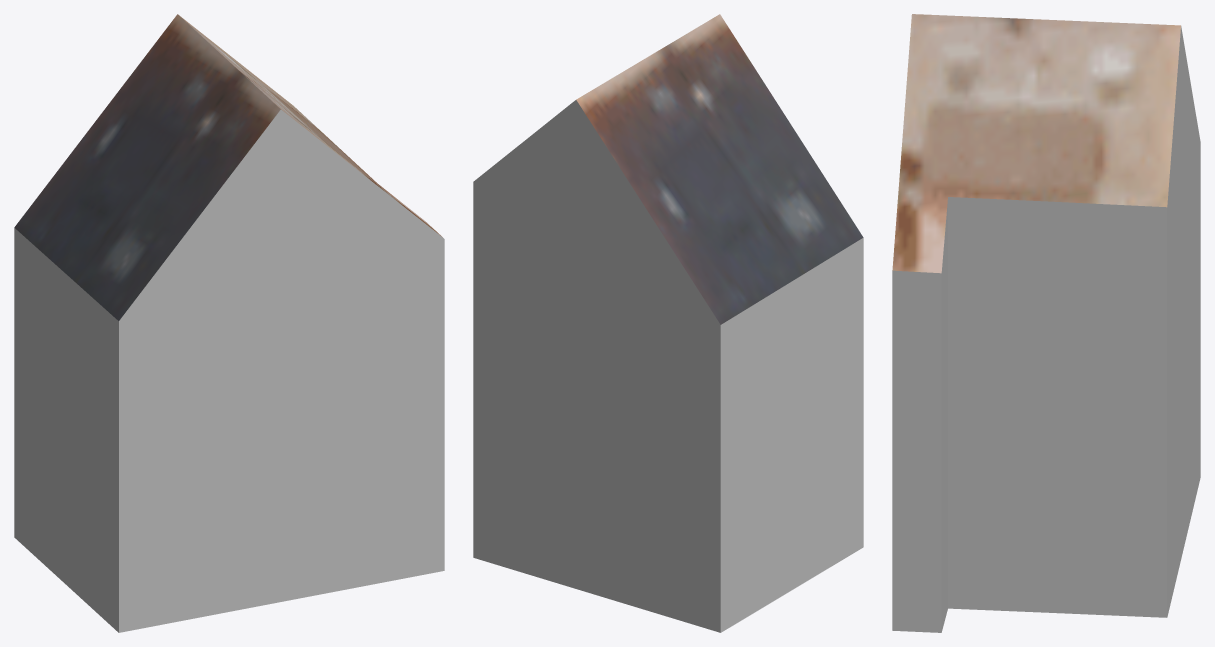
The model's file is DEBW_0010007TxgK.gltf.
The picture shows the model from 3 angles, left to right: view 1: azimuth 30°, elevation 25°; view 2: azimuth 150°, elevation 25°; view 3: azimuth 270°, elevation 25°; orthographic projection. The views are drawn at different scales.
Parts seen in each view (by area): view 1: Z_UP; view 2: Z_UP; view 3: Z_UP.
Boxes of the visible parts, <box> form: Z_UP: <box>14,14,444,632</box>; Z_UP: <box>473,14,863,632</box>; Z_UP: <box>892,14,1200,632</box>.
Size of the model in its own units: 15.19 by 22.91 by 11.96.
2 materials, 1 textured.
